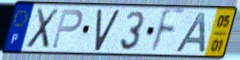3: (118, 10, 146, 52)
A: (173, 11, 207, 55)
F: (147, 7, 187, 56)
P: (50, 8, 85, 50)
V: (93, 8, 122, 53)
X: (23, 7, 61, 50)
